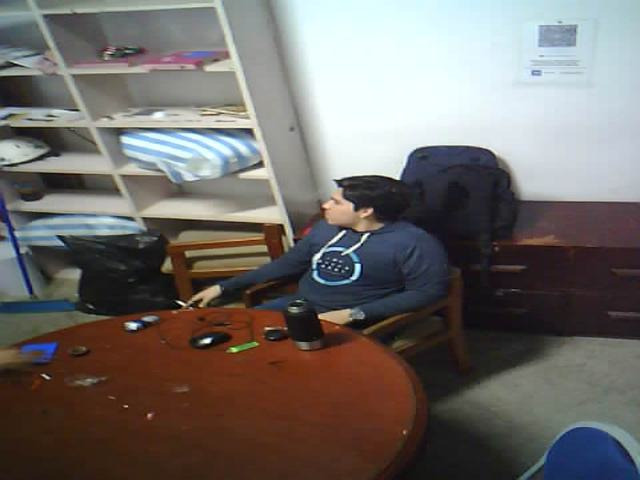person: (160, 160, 472, 378)
